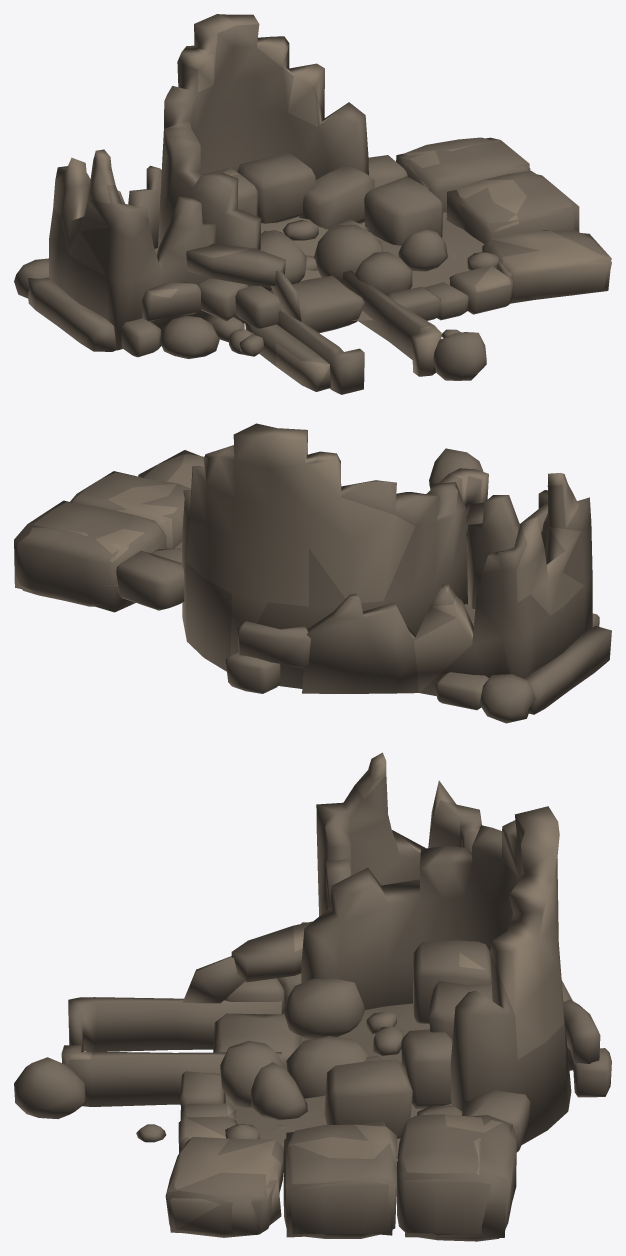
3 views of the same model, one above another, from view 1: azimuth 30°, elevation 25°; view 2: azimuth 150°, elevation 25°; view 3: azimuth 270°, elevation 25° (orthographic). The views are drawn at different scales.
Parts seen in each view (by area): view 1: castle_d4; view 2: castle_d4; view 3: castle_d4.
Boxes of the visible parts, box(x1,y1,x2,y2) form: castle_d4: box(14, 14, 611, 394); castle_d4: box(14, 423, 611, 723); castle_d4: box(14, 752, 611, 1241).
Size of the model in its own units: 2.9 by 1.32 by 2.6.
